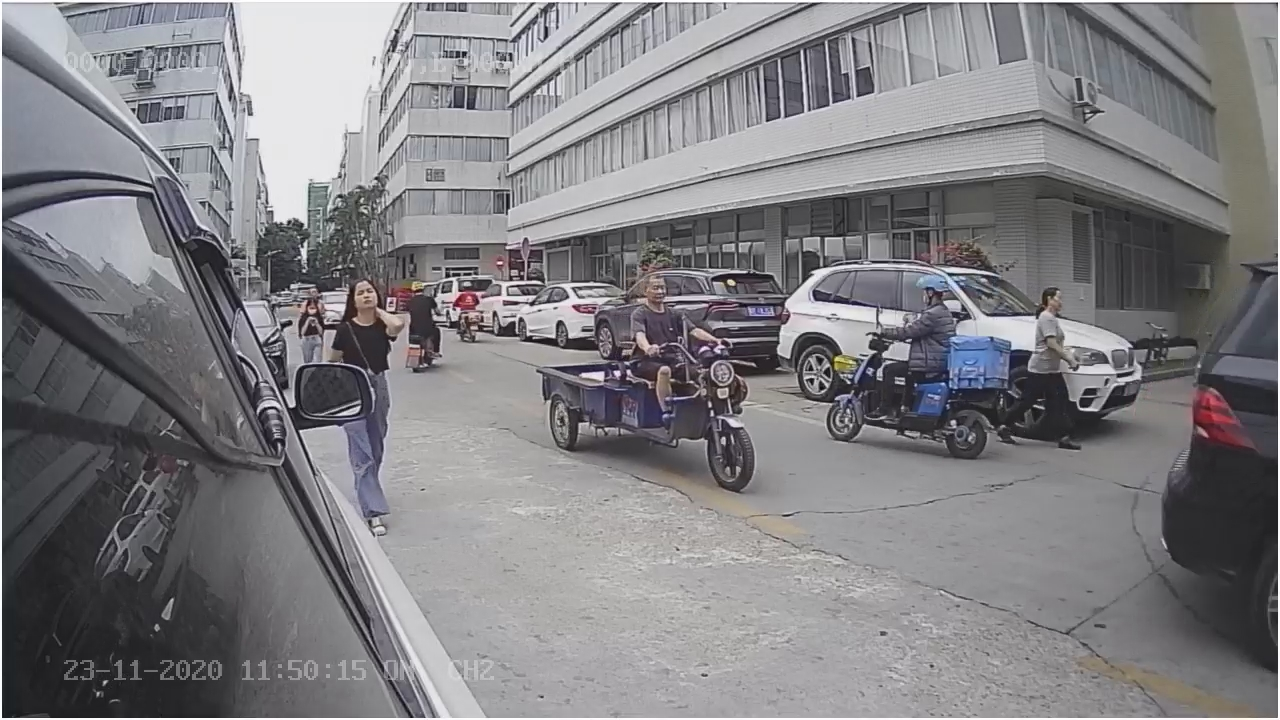person: (318, 274, 403, 367)
